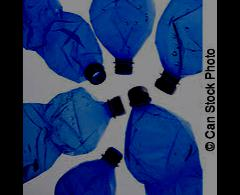Plastic: (22, 82, 130, 186), (122, 83, 216, 194), (22, 0, 108, 88), (151, 0, 211, 95), (26, 138, 126, 194), (88, 0, 159, 75)
